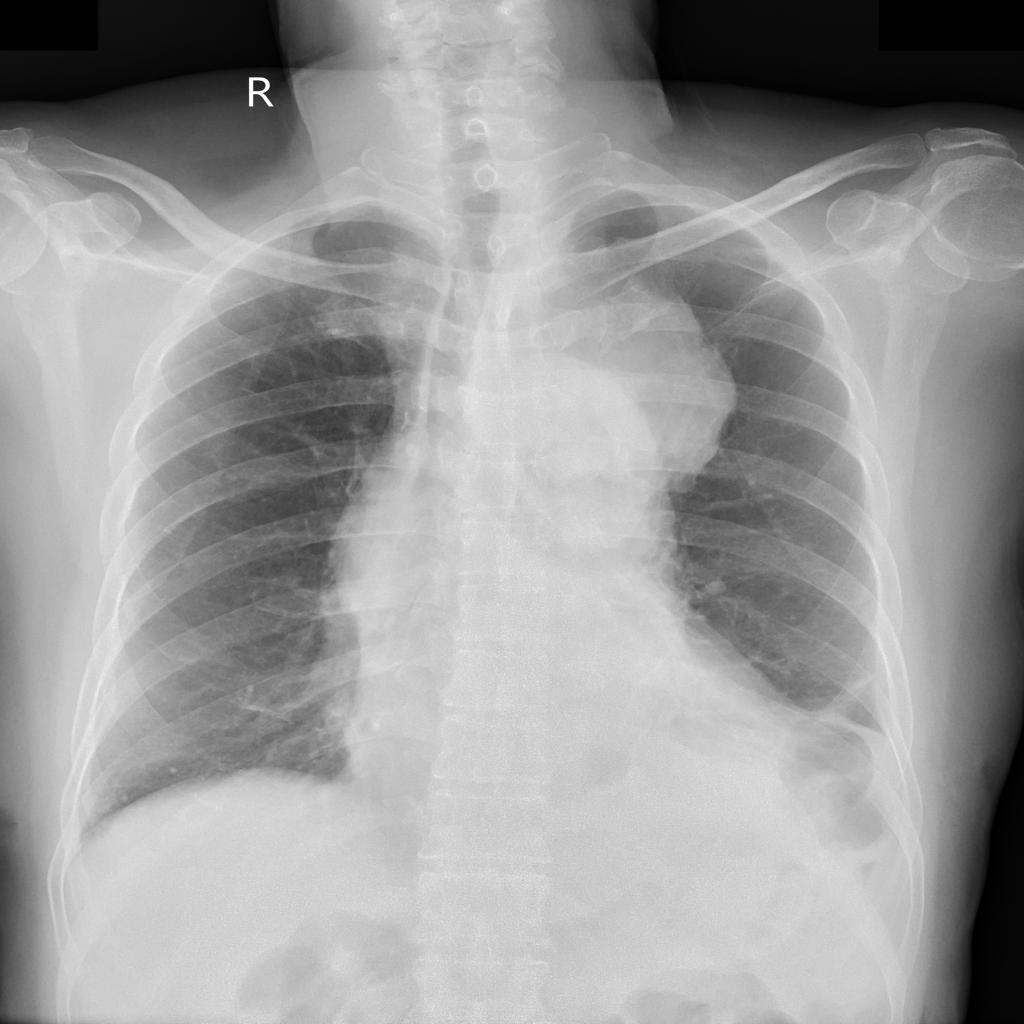Nodule: (554, 269, 738, 485)
